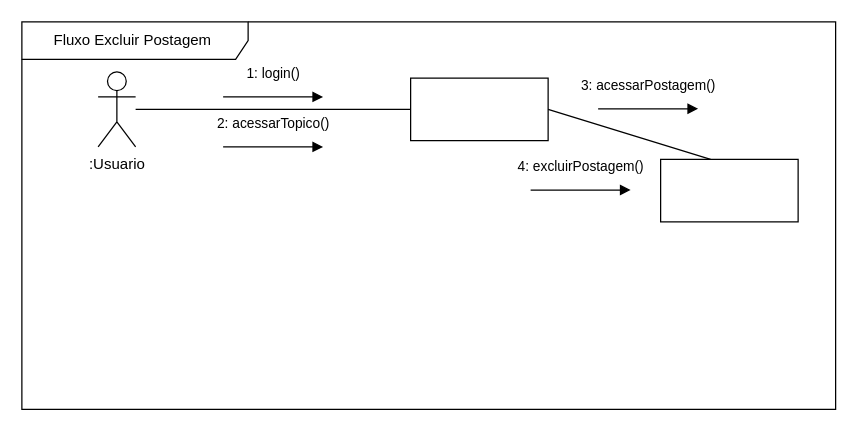
This 858x431 diagram has some shape labels left out. Each missing label, with the box of its shape:
:Postagem: (659, 158, 798, 222)
:Topico: (409, 77, 548, 141)
